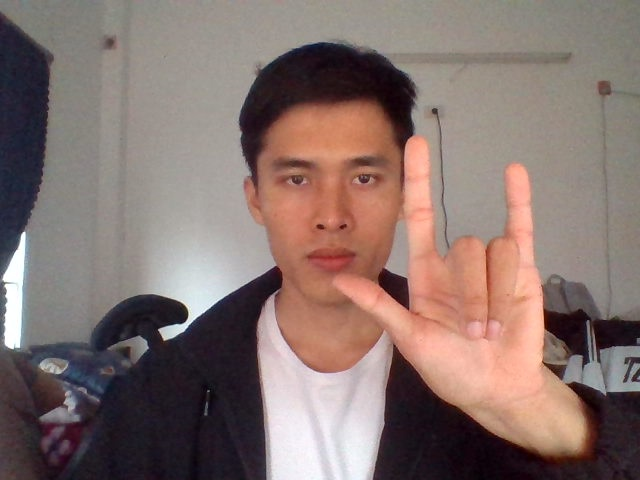ILoveYou: (327, 131, 549, 398)
